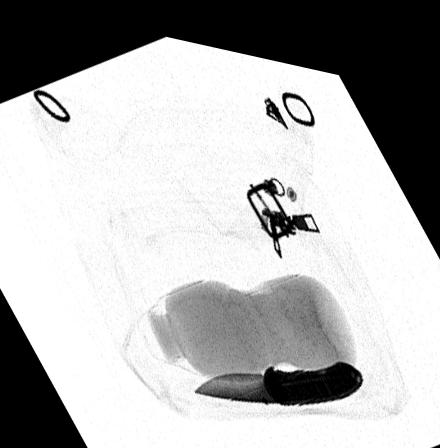Knife: (193, 343, 364, 392)
